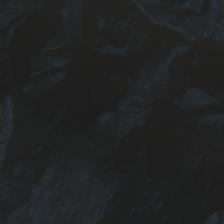landslides: (39, 47, 57, 58), (7, 0, 22, 13)
